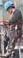boots: (0, 51, 12, 58)
gloves: (3, 21, 10, 27)
hard-hat: (4, 0, 14, 11)
ppe-suit: (0, 1, 23, 58)
